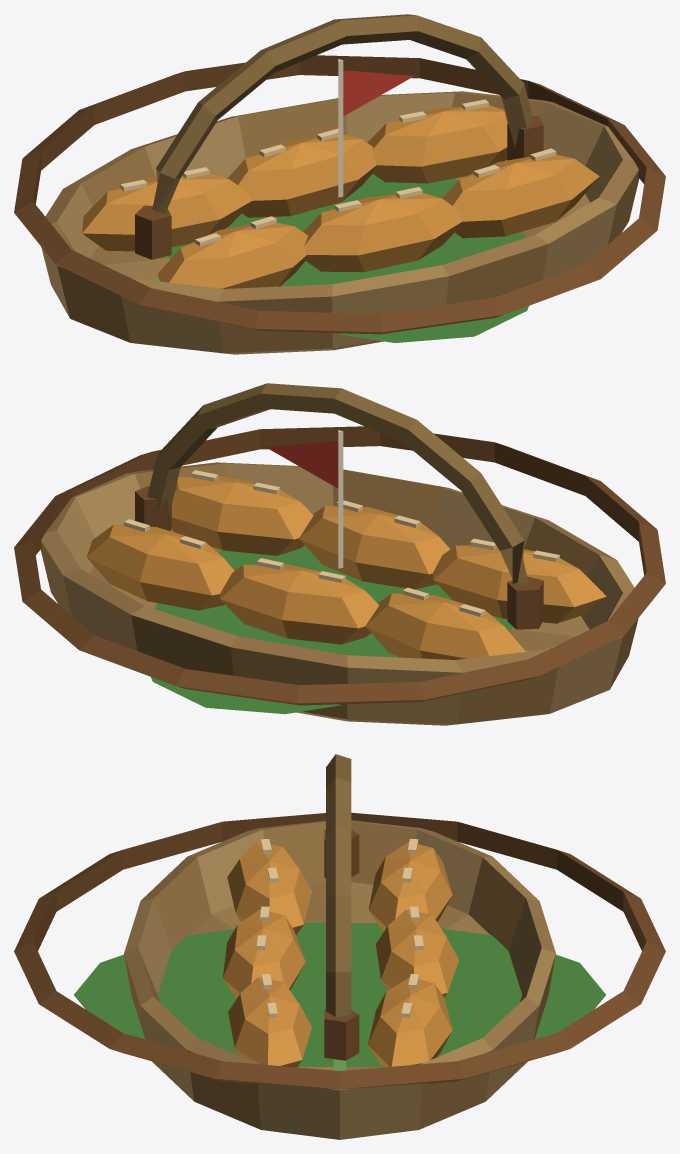
File: khay_banh_mini.glb
The picture shows the model from 3 angles, top to bottom: view 1: azimuth 30°, elevation 25°; view 2: azimuth 150°, elevation 25°; view 3: azimuth 270°, elevation 25°; orthographic projection.
Parts seen in each view (by area): view 1: khay_may, banh_mini, quai_tre, la_chuoi, co_giay; view 2: khay_may, banh_mini, quai_tre, la_chuoi, co_giay; view 3: khay_may, banh_mini, la_chuoi, quai_tre.
Part boxes in pixels (box(x1,y1,x2,y2)): khay_may: box(14, 55, 665, 354); banh_mini: box(82, 99, 599, 288); quai_tre: box(135, 14, 543, 259); la_chuoi: box(150, 173, 528, 342); co_giay: box(338, 59, 413, 197); khay_may: box(14, 426, 665, 725); banh_mini: box(86, 470, 606, 659); quai_tre: box(135, 383, 543, 629); la_chuoi: box(151, 545, 530, 714); co_giay: box(266, 430, 343, 568); khay_may: box(14, 812, 665, 1139); banh_mini: box(223, 839, 458, 1067); la_chuoi: box(74, 923, 605, 1070); quai_tre: box(324, 754, 359, 1060).
Size of the model in its own units: 0.306 by 0.1262 by 0.306.
